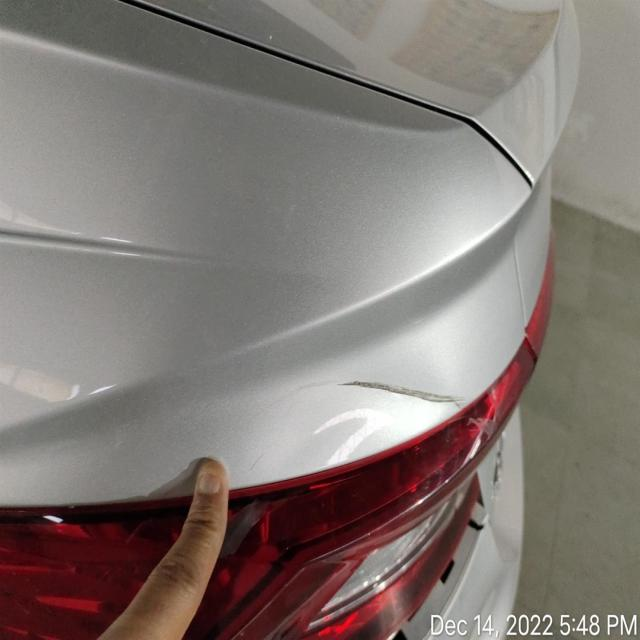damage: (336, 361, 462, 419)
